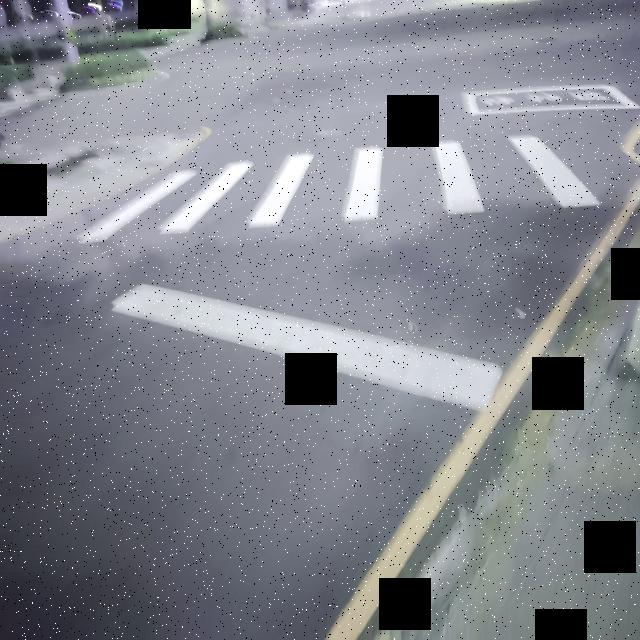zebra_crossing: (443, 49, 618, 222)
